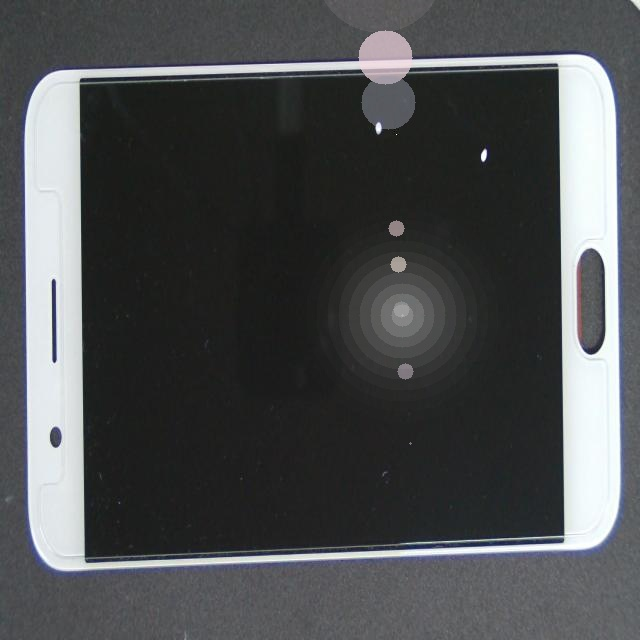stain: (202, 107, 640, 265), (199, 30, 563, 175)
